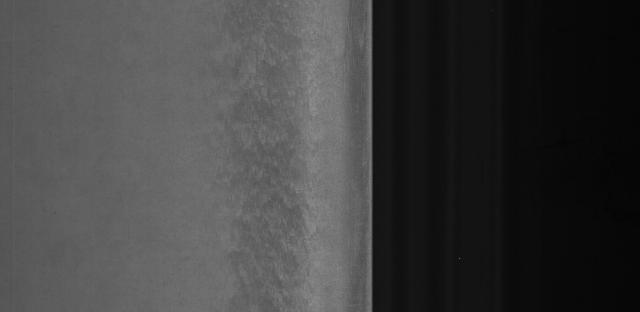silk_spot: (217, 22, 309, 288)
